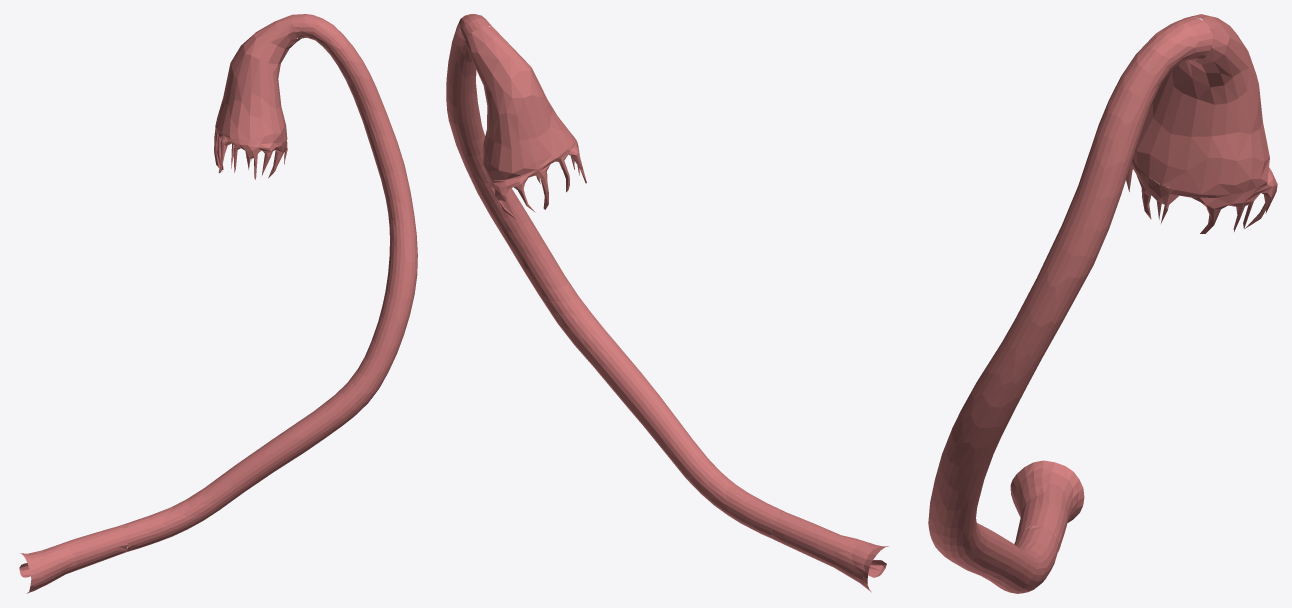
The model's file is VH_F_Fallopian_Tube_L_0.2.glb.
The picture shows the model from 3 angles, left to right: view 1: azimuth 30°, elevation 25°; view 2: azimuth 150°, elevation 25°; view 3: azimuth 270°, elevation 25°; orthographic projection. The views are drawn at different scales.
Visible parts, largest first — view 1: VH_F_ampulla_of_uterine_tube_L, VH_F_uterine_tube_infundibulum_L, VH_F_isthmus_of_fallopian_tube_L, VH_F_fibria_of_uterine_tube_L; view 2: VH_F_ampulla_of_uterine_tube_L, VH_F_uterine_tube_infundibulum_L, VH_F_isthmus_of_fallopian_tube_L, VH_F_fibria_of_uterine_tube_L; view 3: VH_F_ampulla_of_uterine_tube_L, VH_F_uterine_tube_infundibulum_L, VH_F_isthmus_of_fallopian_tube_L, VH_F_fibria_of_uterine_tube_L.
Boxes of the visible parts, <box> form: VH_F_ampulla_of_uterine_tube_L: <box>118,14,417,551</box>; VH_F_uterine_tube_infundibulum_L: <box>215,15,300,142</box>; VH_F_isthmus_of_fallopian_tube_L: <box>19,526,127,593</box>; VH_F_fibria_of_uterine_tube_L: <box>214,127,287,179</box>; VH_F_ampulla_of_uterine_tube_L: <box>446,14,785,538</box>; VH_F_uterine_tube_infundibulum_L: <box>465,26,574,180</box>; VH_F_isthmus_of_fallopian_tube_L: <box>771,512,888,592</box>; VH_F_fibria_of_uterine_tube_L: <box>486,134,586,219</box>; VH_F_ampulla_of_uterine_tube_L: <box>928,17,1212,593</box>; VH_F_uterine_tube_infundibulum_L: <box>1133,14,1269,195</box>; VH_F_isthmus_of_fallopian_tube_L: <box>1010,460,1084,551</box>; VH_F_fibria_of_uterine_tube_L: <box>1126,159,1277,233</box>.
Bounding box in the file's own units: 0.0386 × 0.0445 × 0.0186.
